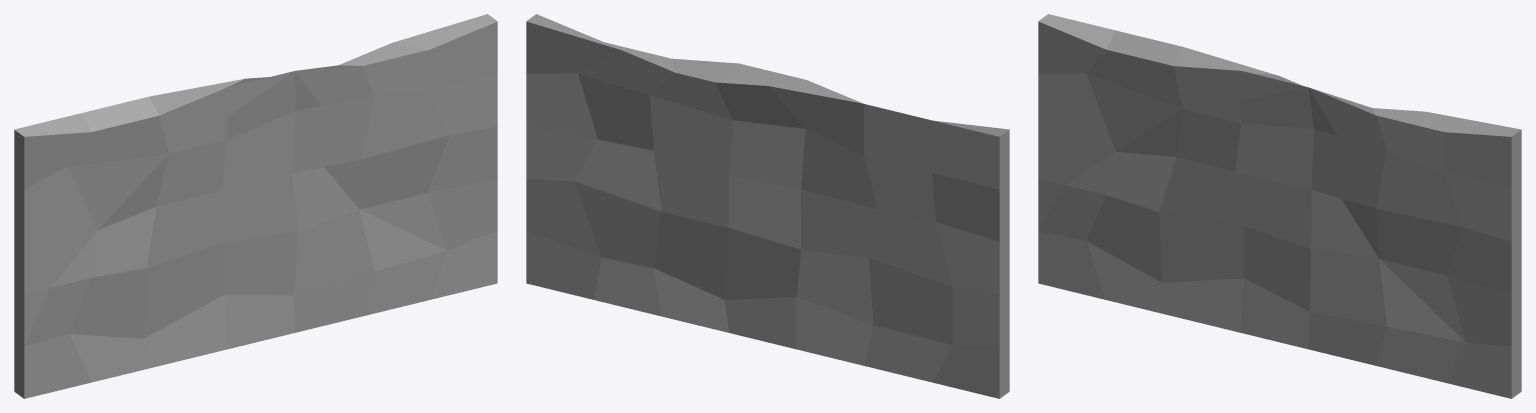
Rendered from Fixed Mesh 10.fbx.
3 renders of one model, left to right at view 1: azimuth 30°, elevation 25°; view 2: azimuth 150°, elevation 25°; view 3: azimuth 330°, elevation 25°, orthographic.
Visible parts, largest first — view 1: Cube.101; view 2: Cube.101; view 3: Cube.101.
Part boxes in pixels (box(x1,y1,x2,y2)): Cube.101: box(14, 14, 497, 398); Cube.101: box(526, 14, 1009, 398); Cube.101: box(1038, 14, 1521, 398).
Bounding box in the file's own units: 810 × 428 × 33.67.
